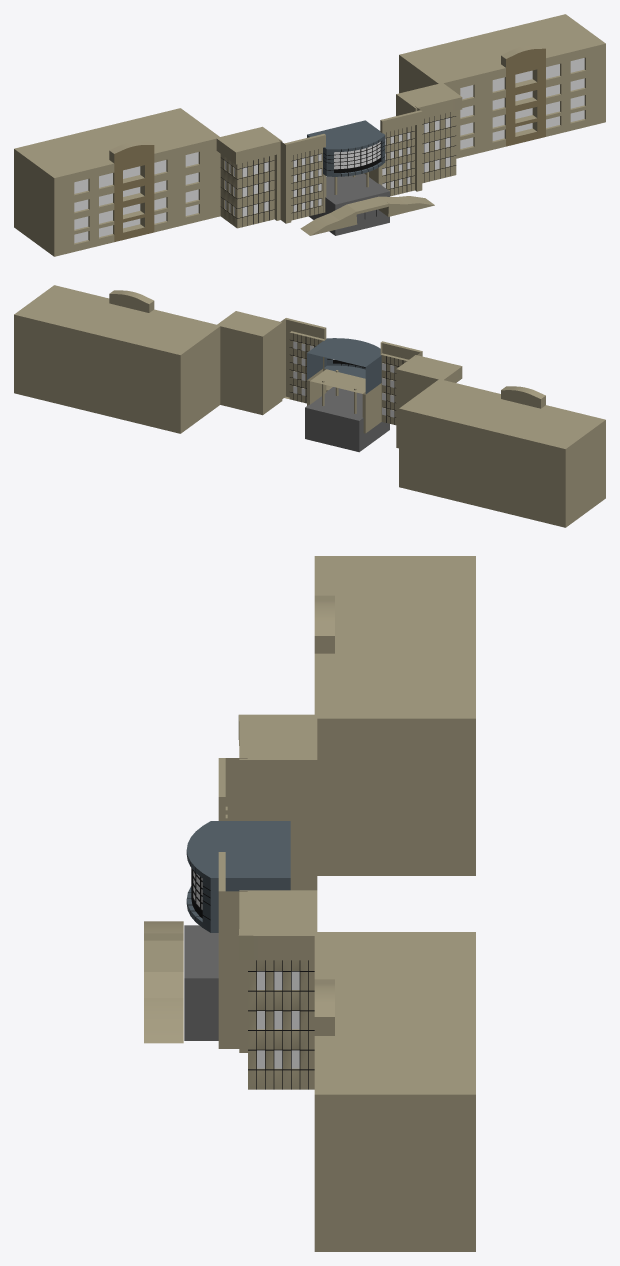
Rendered from 00_Tejas_FBX.fbx.
The picture shows the model from 3 angles, top to bottom: view 1: azimuth 30°, elevation 25°; view 2: azimuth 150°, elevation 25°; view 3: azimuth 270°, elevation 25°; orthographic projection. The views are drawn at different scales.
Parts seen in each view (by area): view 1: pCube2.003, pCube2.002, group1_pCube2.003, group1_pCube2.002, pPlane1.001, pCube4.001, pCube3.001; view 2: pCube2.002, pCube2.003, group1_pCube2.002, pPlane1.001, group1_pCube2.003, pCube4.001; view 3: pCube2.002, pCube2.003, group1_pCube2.002, group1_pCube2.003, pPlane1.001, pCube3.001, pCube4.001.
Part boxes in pixels (x1,y1,x2,y2): pCube2.003: [14, 108, 220, 256]; pCube2.002: [399, 14, 605, 158]; group1_pCube2.003: [216, 126, 325, 228]; group1_pCube2.002: [380, 83, 462, 196]; pPlane1.001: [307, 120, 385, 212]; pCube4.001: [309, 173, 389, 235]; pCube3.001: [300, 196, 434, 235]; pCube2.002: [14, 285, 220, 433]; pCube2.003: [399, 379, 605, 527]; group1_pCube2.002: [216, 311, 326, 415]; pPlane1.001: [307, 338, 381, 433]; group1_pCube2.003: [380, 341, 462, 448]; pCube4.001: [305, 387, 389, 452]; pCube2.002: [314, 932, 475, 1251]; pCube2.003: [314, 556, 475, 875]; group1_pCube2.002: [218, 852, 317, 1089]; group1_pCube2.003: [218, 714, 317, 890]; pPlane1.001: [186, 821, 290, 932]; pCube3.001: [144, 921, 183, 1043]; pCube4.001: [184, 925, 218, 1040].
Bounding box in the file's own units: 561 × 104 × 146.
